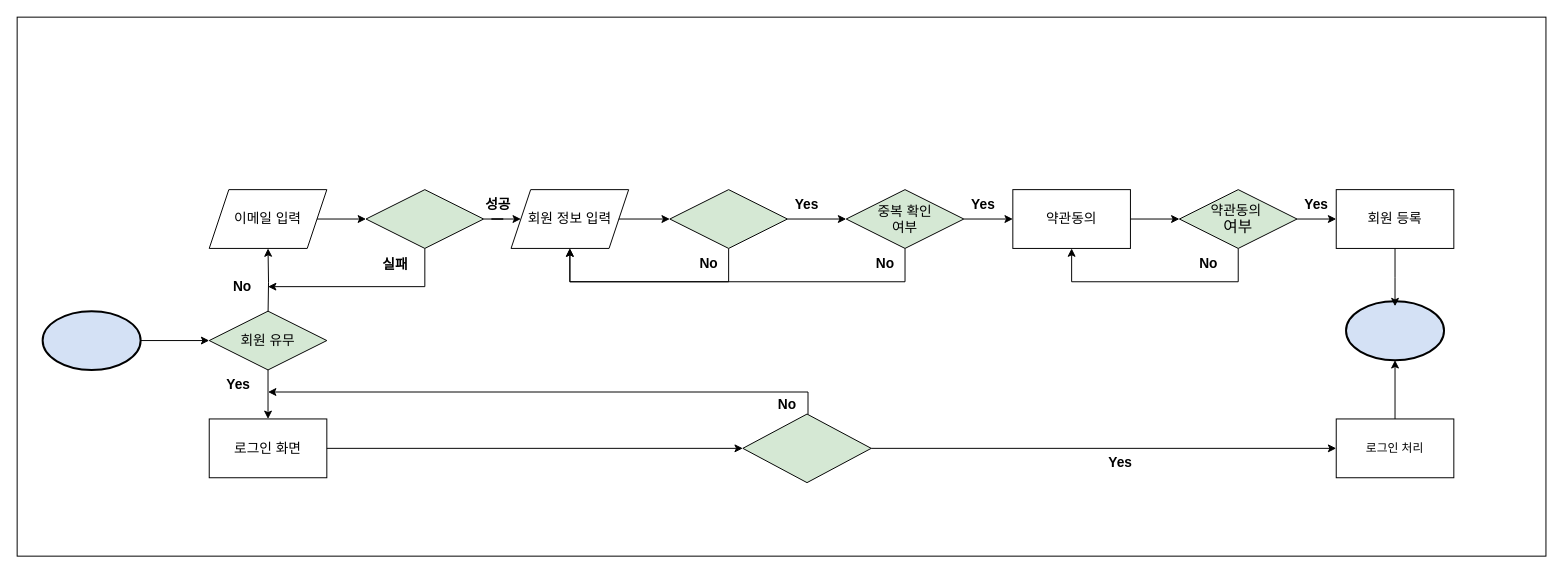
This 1563x573 diagram has some shape labels left out. The box of each missing label's shape, as (x1, y1, x2, y2) in pixels:
로그인: (1345, 300, 1445, 361)
아이디/ 비밀번호 일치 여부: (742, 413, 871, 483)
이메일 인증: (365, 189, 484, 248)
필수항목 입력 여부: (669, 189, 787, 248)
회원가입: (41, 310, 141, 370)
